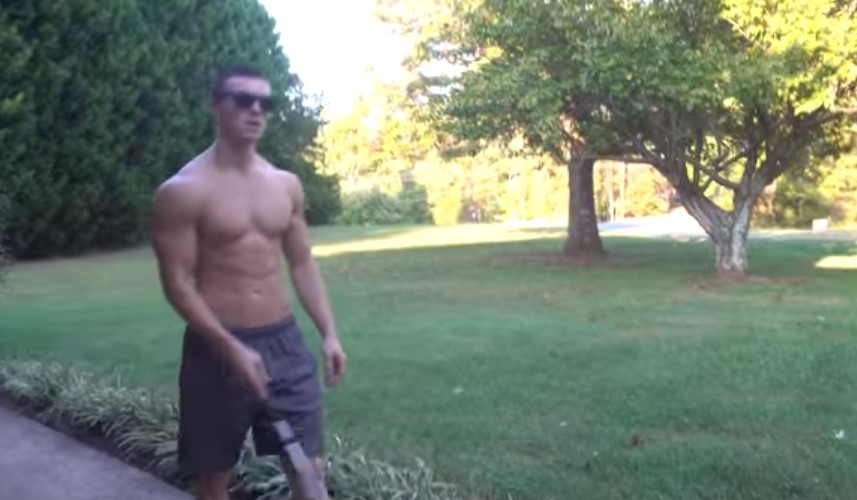face_no_mask: (209, 67, 272, 147)
